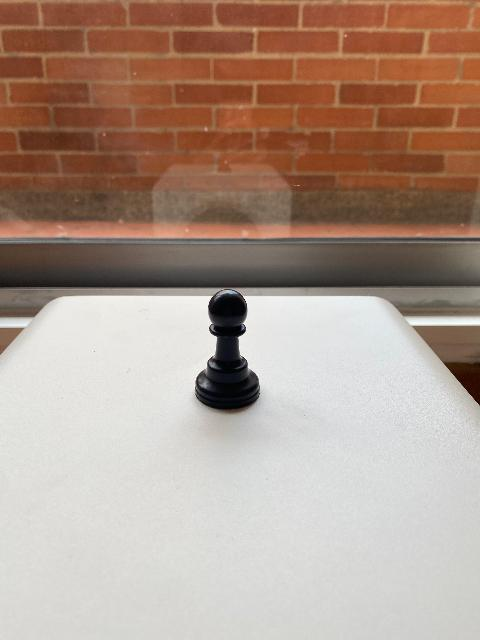black-pawn: (194, 288, 262, 410)
